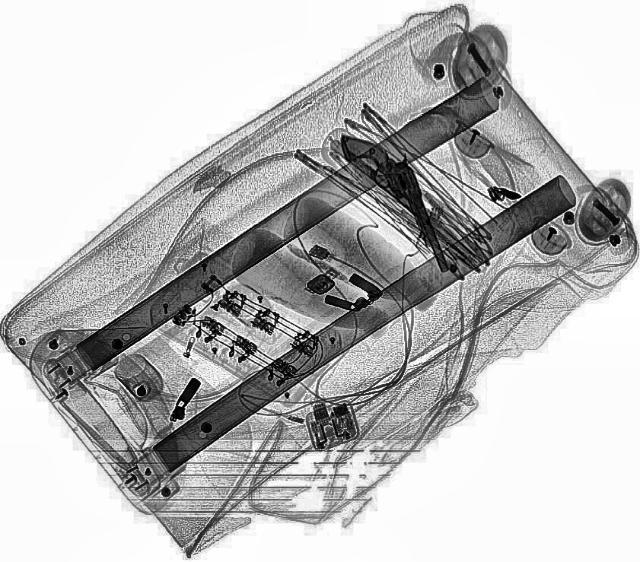Gun: (334, 120, 450, 286)
